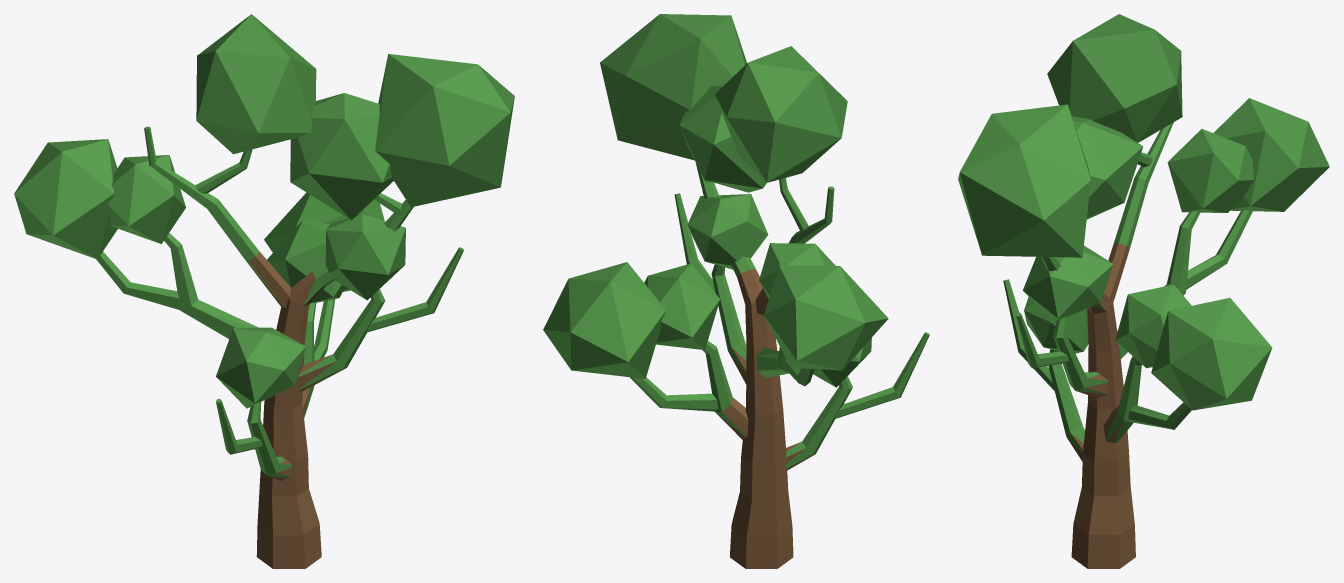
File: tree3d-195.glb
3 renders of one model, left to right at view 1: azimuth 30°, elevation 25°; view 2: azimuth 150°, elevation 25°; view 3: azimuth 270°, elevation 25°, orthographic. The views are drawn at different scales.
Parts seen in each view (by area): view 1: tree3d-195; view 2: tree3d-195; view 3: tree3d-195.
Part boxes in pixels (x1=…): tree3d-195: x1=14, y1=14, x2=514, y2=568; tree3d-195: x1=543, y1=14, x2=929, y2=568; tree3d-195: x1=958, y1=14, x2=1329, y2=568.
Size of the model in its own units: 0.7665 by 1 by 0.646.
